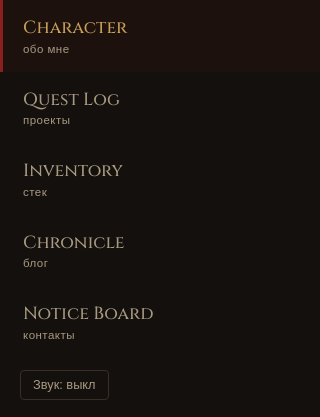
Test case: MenuNav › clicking the sound toggle flips its label
This screenshot has width=320, height=417.
Click the button with class "menu-nav__sound-toggle".
click(64, 385)  # box [20,370,109,400]
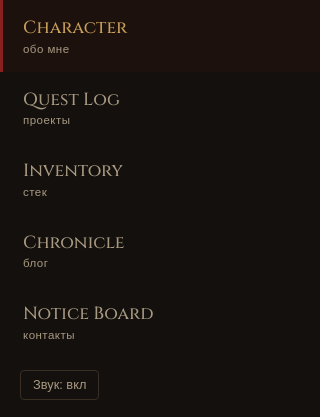
Expected: the button with class "menu-nav__sound-toggle" shows "вкл", [20,370,99,400]
